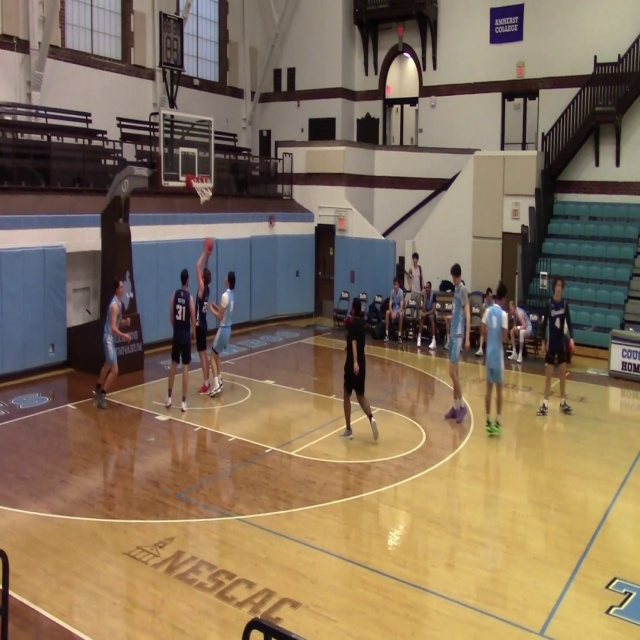Basketball: (203, 237, 214, 252), (202, 268, 211, 285)
